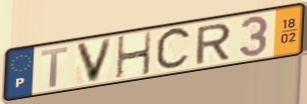3: (237, 14, 269, 60)
C: (154, 24, 194, 74)
H: (115, 29, 154, 81)
R: (193, 21, 233, 67)
T: (39, 45, 70, 89)
V: (74, 36, 116, 85)
